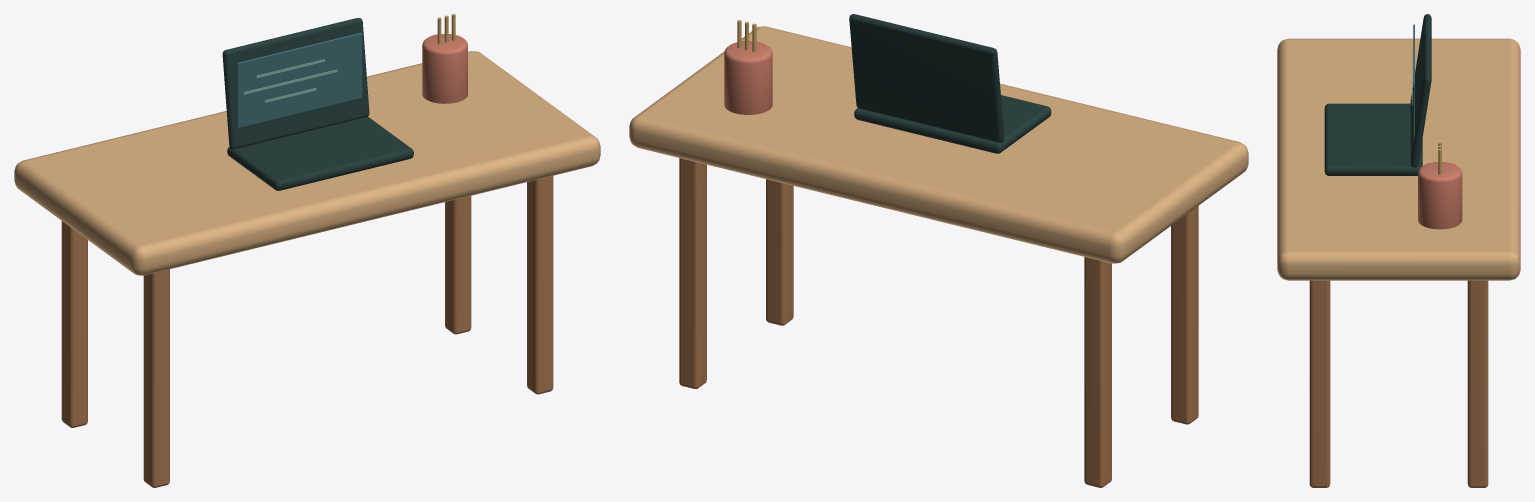
File: desk.glb
3 views of the same model, side by side, from view 1: azimuth 30°, elevation 25°; view 2: azimuth 150°, elevation 25°; view 3: azimuth 270°, elevation 25° (orthographic). The views are drawn at different scales.
Parts seen in each view (by area): view 1: Writing surface, Screen content, Laptop base, Laptop display, Tapered leg.023, Tapered leg.021, Tapered leg.020, Tapered leg.022, Pen pot; view 2: Writing surface, Laptop display, Tapered leg.020, Tapered leg.022, Tapered leg.021, Tapered leg.023, Laptop base, Pen pot; view 3: Writing surface, Laptop base, Tapered leg.022, Tapered leg.023, Pen pot, Laptop display.
Part boxes in pixels (x1,y1,x2,y2): Writing surface: (14, 51, 600, 275); Screen content: (237, 32, 362, 127); Laptop base: (227, 116, 413, 190); Laptop display: (222, 18, 369, 149); Tapered leg.023: (527, 176, 553, 394); Tapered leg.021: (143, 269, 169, 487); Tapered leg.020: (61, 221, 87, 427); Tapered leg.022: (445, 196, 471, 334); Pen pot: (422, 34, 467, 103); Writing surface: (629, 26, 1248, 263); Laptop display: (849, 14, 1004, 142); Tapered leg.020: (1084, 257, 1111, 487); Tapered leg.022: (679, 158, 706, 388); Tapered leg.021: (1171, 206, 1198, 424); Tapered leg.023: (766, 179, 793, 325); Laptop base: (854, 95, 1051, 153); Pen pot: (724, 41, 772, 114); Writing surface: (1277, 38, 1520, 280); Laptop base: (1324, 103, 1422, 175); Tapered leg.022: (1467, 280, 1488, 487); Tapered leg.023: (1309, 280, 1330, 487); Pen pot: (1418, 162, 1462, 229); Laptop display: (1410, 14, 1431, 167).
Size of the model in its own units: 1.65 by 1.22 by 0.77.
